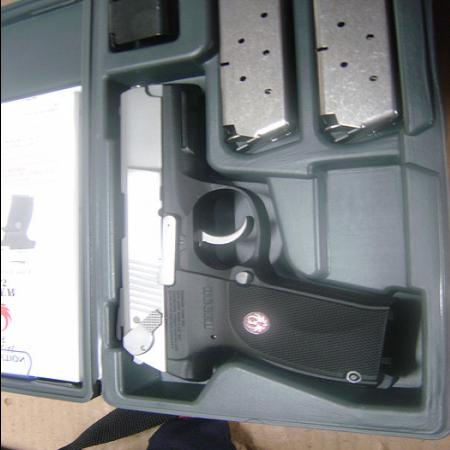Pistol: (108, 82, 398, 390)
